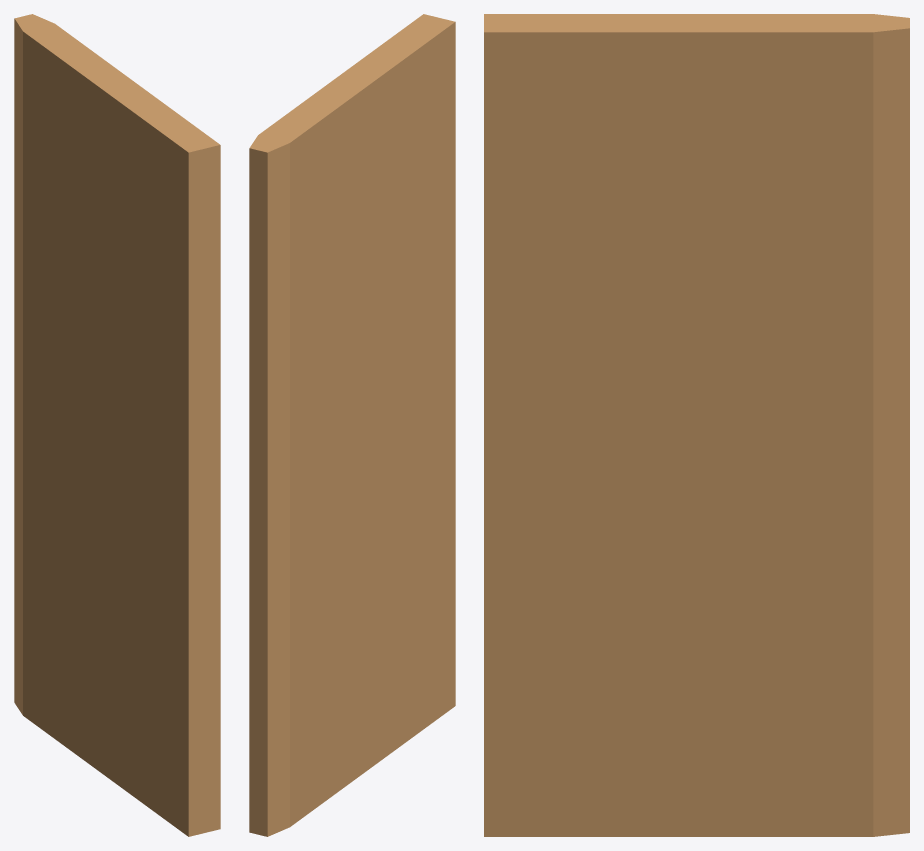
Rendered from DoorLeft.fbx.
The picture shows the model from 3 angles, left to right: view 1: azimuth 30°, elevation 25°; view 2: azimuth 150°, elevation 25°; view 3: azimuth 270°, elevation 25°; orthographic projection. The views are drawn at different scales.
Visible parts, largest first — view 1: DoorLeft; view 2: DoorLeft; view 3: DoorLeft.
Part boxes in pixels (bbox=[...]): DoorLeft: bbox=[14, 14, 220, 836]; DoorLeft: bbox=[249, 14, 455, 836]; DoorLeft: bbox=[484, 14, 909, 836].
Bounding box in the file's own units: 19.73 × 405 × 194.
